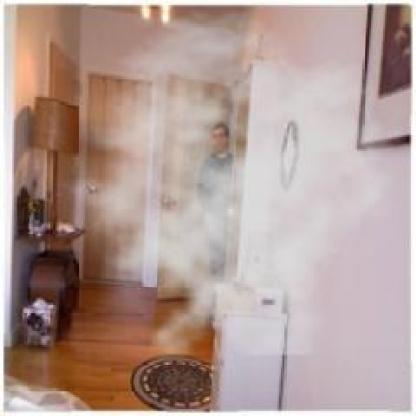Smoke: (52, 9, 409, 355)
